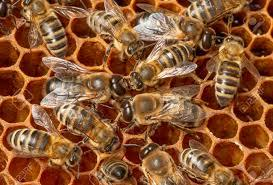worker-bee: (6, 104, 82, 176), (41, 56, 128, 107), (114, 85, 206, 130), (206, 34, 259, 106), (134, 3, 215, 49), (127, 39, 197, 90), (21, 0, 82, 57), (85, 0, 143, 58), (54, 103, 120, 152), (179, 139, 241, 184), (139, 143, 189, 184)
